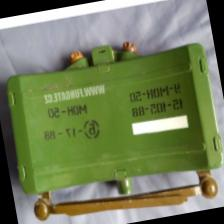MOH-50: (0, 26, 224, 213)
